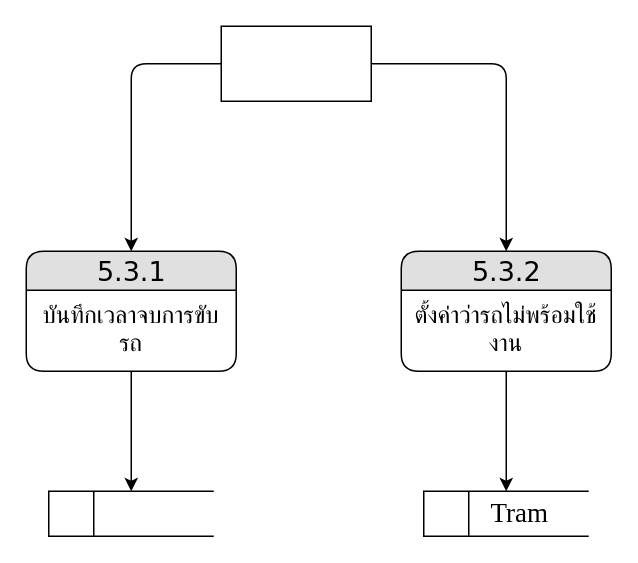
The diagram is 638 pixels wide and 563 high, and some of its shapes have lost their labels. Here are the shapes that lost their labels. From the top down, the centre of each, then its label:
At point 295,63: "driver".
At point 130,513: "One day".
